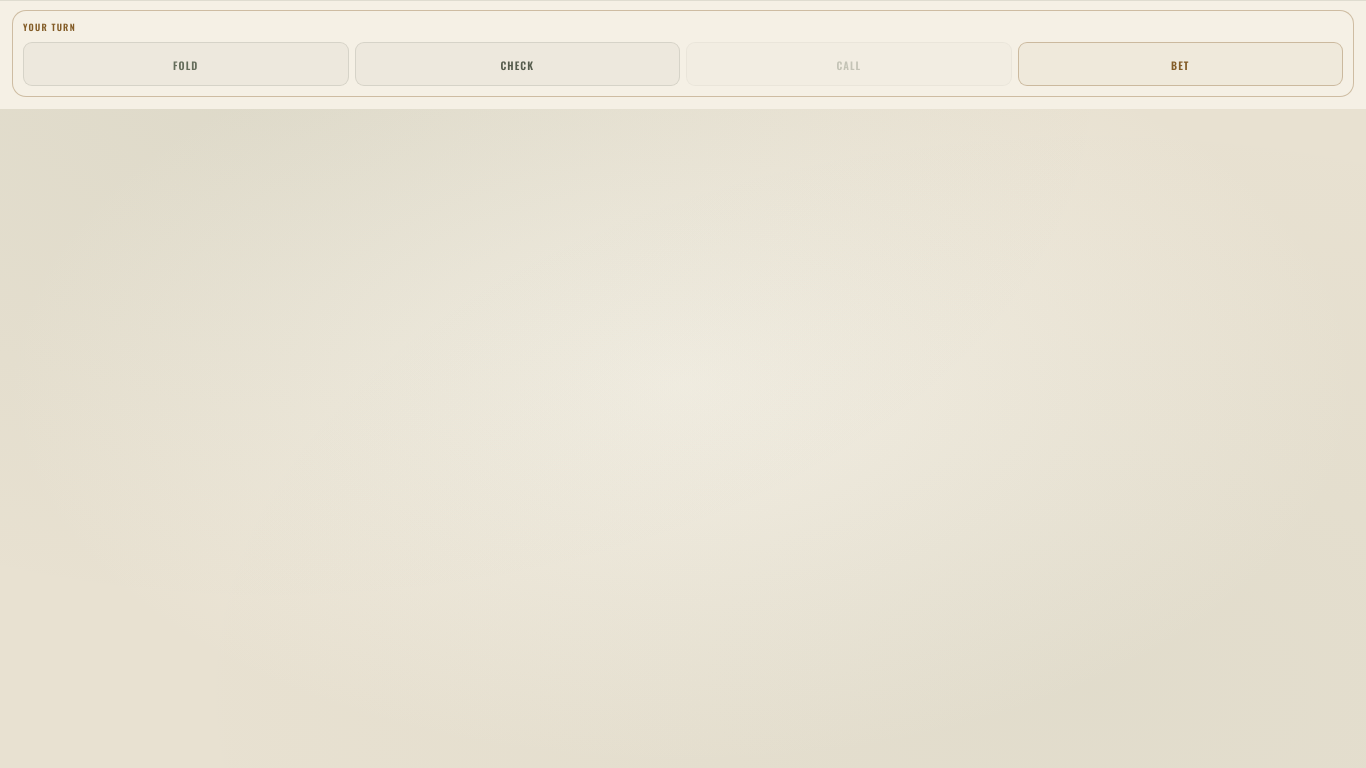
BET is the one verb that needs a number › sends the size that was tapped, and closes
This screenshot has width=1366, height=768.
Click the button "BET". click: click(1180, 64)
box: [1018, 42, 1343, 86]
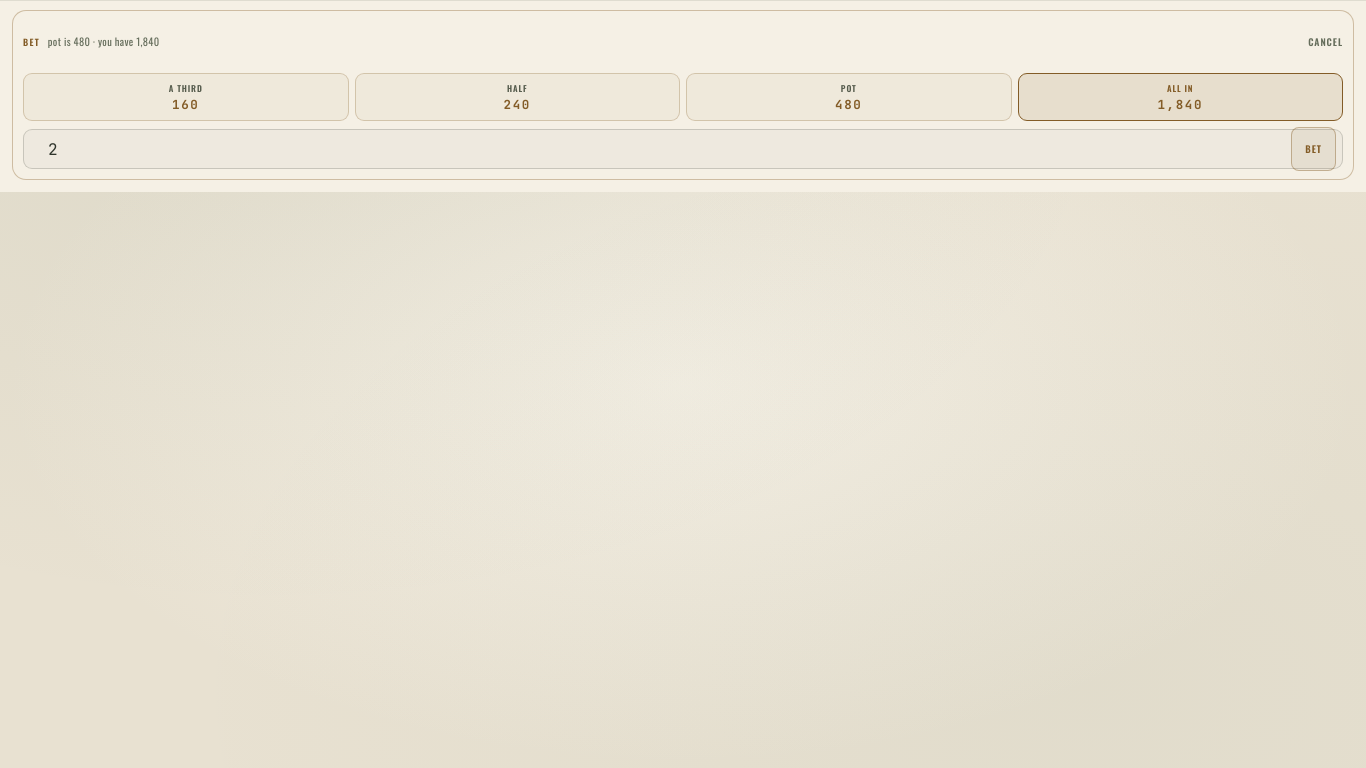
Click the text "HALF". click: click(517, 88)
box: [507, 82, 528, 94]
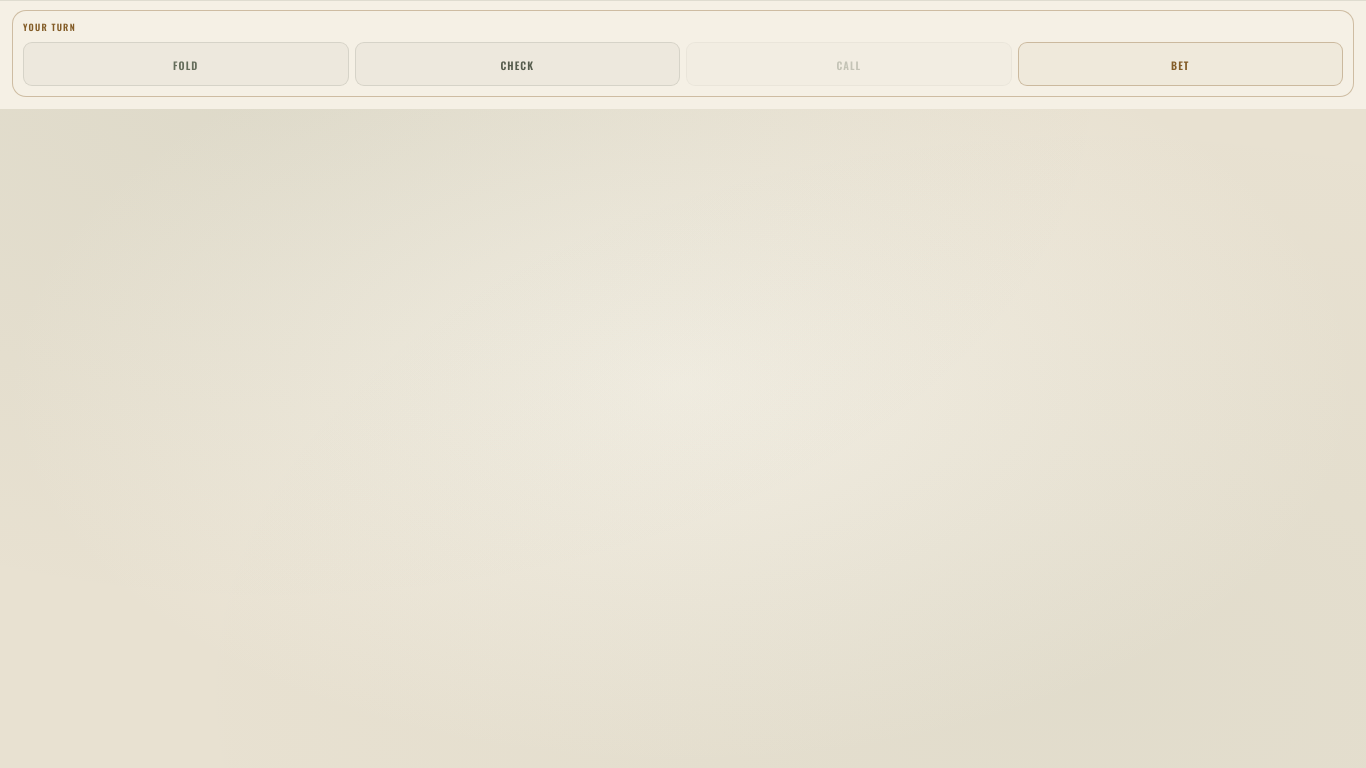
Result: the element with test id "sit-strip" is shown at [0, 0, 1365, 109]
